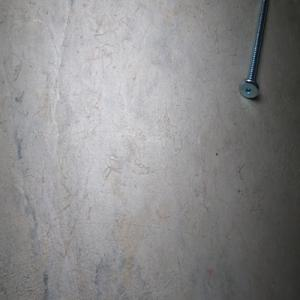Bolt: (238, 0, 269, 99)
